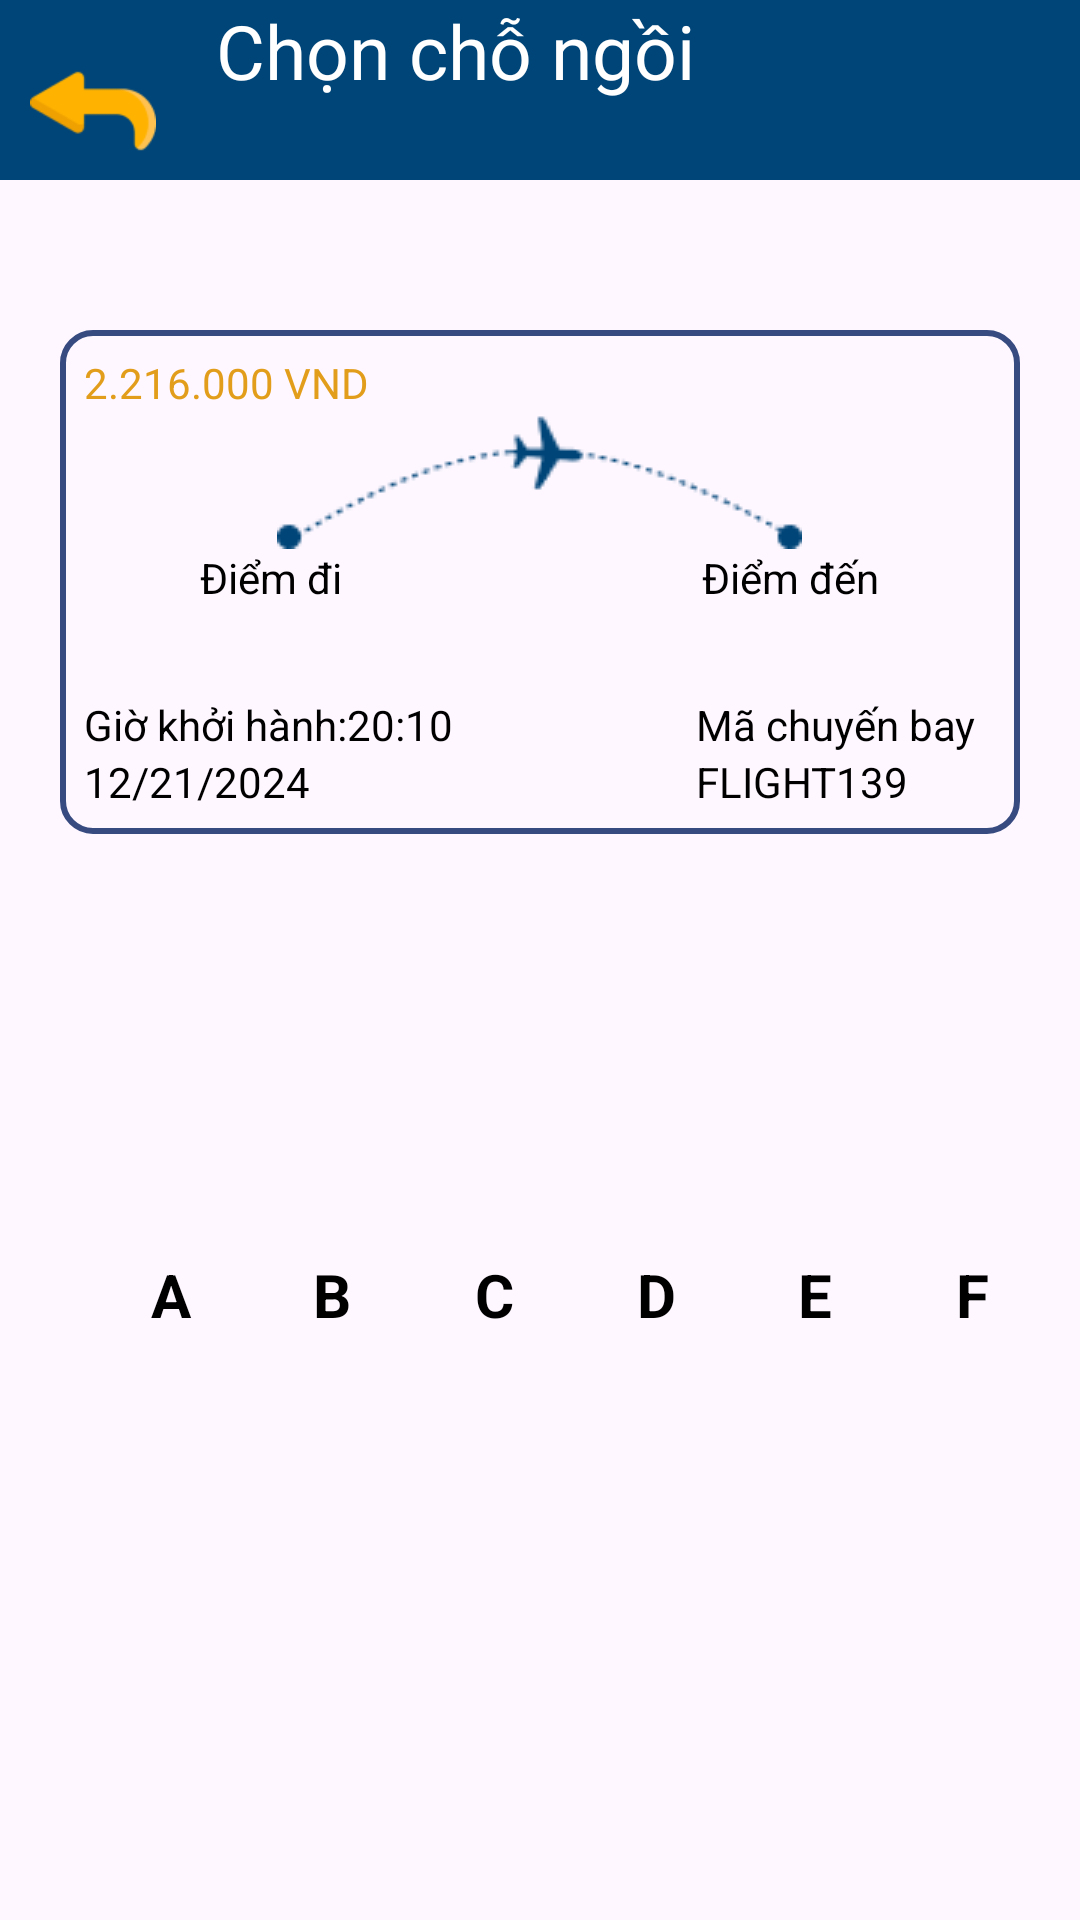

Icon bounding boxes for this 1080 × 1920 phone screenshot, format (x1, y1, x2, y2):
backve: (30, 71, 156, 151)
